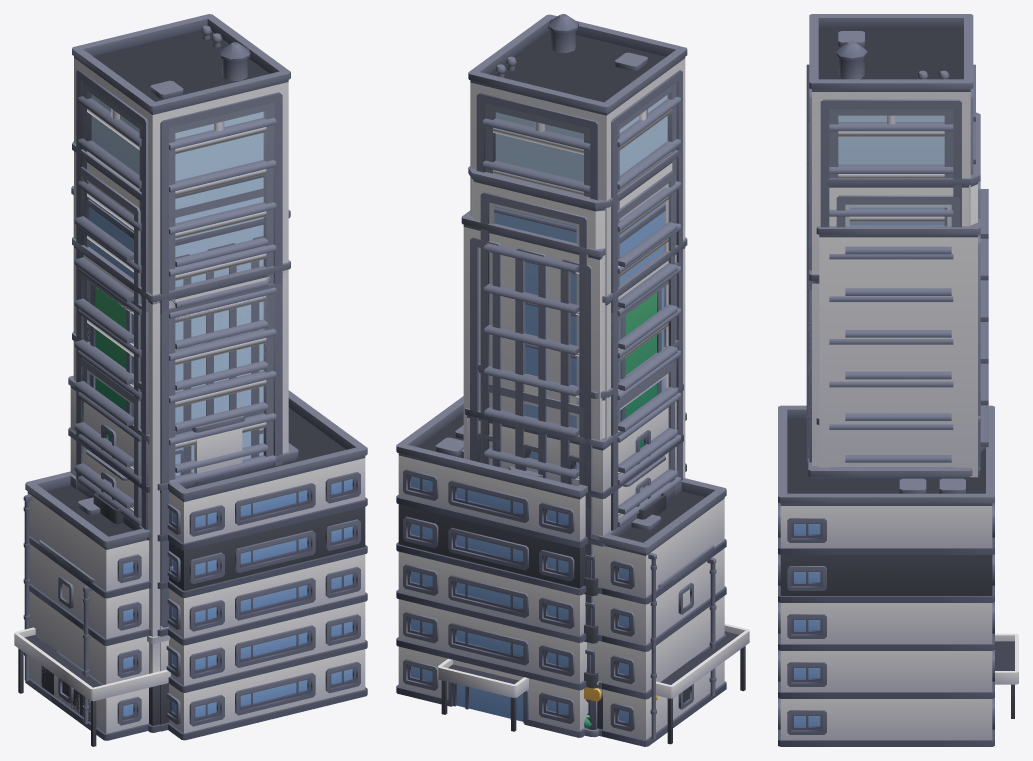
File: town.glb
3 views of the same model, side by side, from view 1: azimuth 30°, elevation 25°; view 2: azimuth 150°, elevation 25°; view 3: azimuth 270°, elevation 25° (orthographic).
Visible parts, largest first — view 1: tower_d, shop_n, tower_c, shop_j, tower_b, tower_e, shop_k, tower_a, shop_m, shop_l; view 2: shop_n, tower_d, tower_b, tower_e, shop_j, shop_m, tower_a, tower_c, shop_k, shop_i; view 3: shop_n, tower_d, tower_e, tower_b, tower_c, tower_a, shop_l.
Part boxes in pixels (box(x1,y1,x2,y2)): tower_d: box(72, 14, 290, 732); shop_n: box(14, 390, 367, 746); tower_c: box(72, 237, 290, 732); shop_j: box(23, 471, 149, 740); tower_b: box(72, 141, 267, 508); tower_e: box(71, 186, 290, 480); shop_k: box(39, 540, 95, 730); tower_a: box(72, 331, 267, 518); shop_m: box(68, 375, 263, 629); shop_l: box(93, 443, 298, 731); shop_n: box(396, 396, 749, 744); tower_d: box(468, 14, 687, 530); tower_b: box(468, 150, 678, 720); tower_e: box(461, 204, 665, 729); shop_j: box(583, 478, 726, 746); shop_m: box(464, 383, 683, 736); tower_a: box(477, 340, 678, 729); tower_c: box(602, 237, 687, 530); shop_k: box(656, 545, 716, 730); shop_i: box(584, 477, 684, 729); shop_n: box(778, 405, 1018, 746); tower_d: box(806, 14, 975, 468); tower_e: box(816, 218, 980, 477); tower_b: box(808, 112, 988, 462); tower_c: box(806, 270, 953, 468); tower_a: box(808, 368, 988, 462); shop_l: box(808, 447, 985, 479).
Bounding box in the file's own units: 9.28 × 21.88 × 7.28.
Materials: 17 (4 with a texture image).
